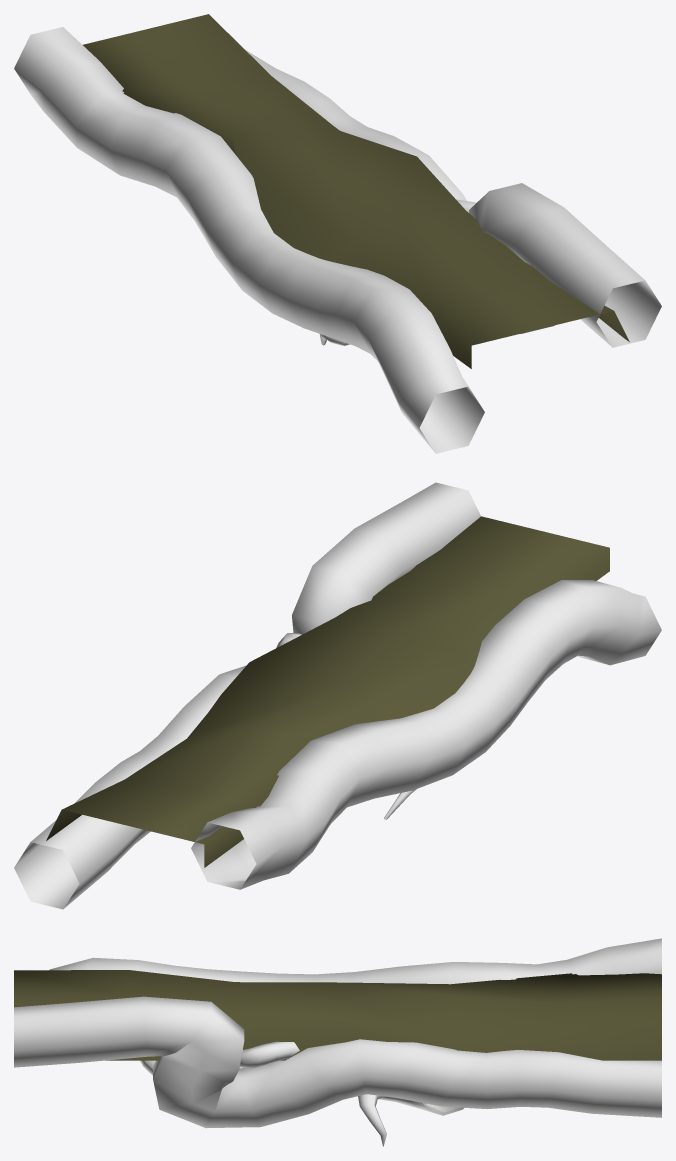
3 views of the same model, one above another, from view 1: azimuth 30°, elevation 25°; view 2: azimuth 150°, elevation 25°; view 3: azimuth 270°, elevation 25° (orthographic). The views are drawn at different scales.
Visible parts, largest first — view 1: NurbsPath.005, DummyPlane.009; view 2: NurbsPath.005, DummyPlane.009; view 3: NurbsPath.005, DummyPlane.009.
Boxes of the visible parts, box(x1,y1,x2,y2) form: NurbsPath.005: box(14, 27, 661, 453); DummyPlane.009: box(83, 14, 629, 368); NurbsPath.005: box(14, 482, 661, 909); DummyPlane.009: box(46, 516, 609, 867); NurbsPath.005: box(14, 938, 661, 1146); DummyPlane.009: box(14, 970, 661, 1060).
Bounding box in the file's own units: 104 × 82.75 × 300.
